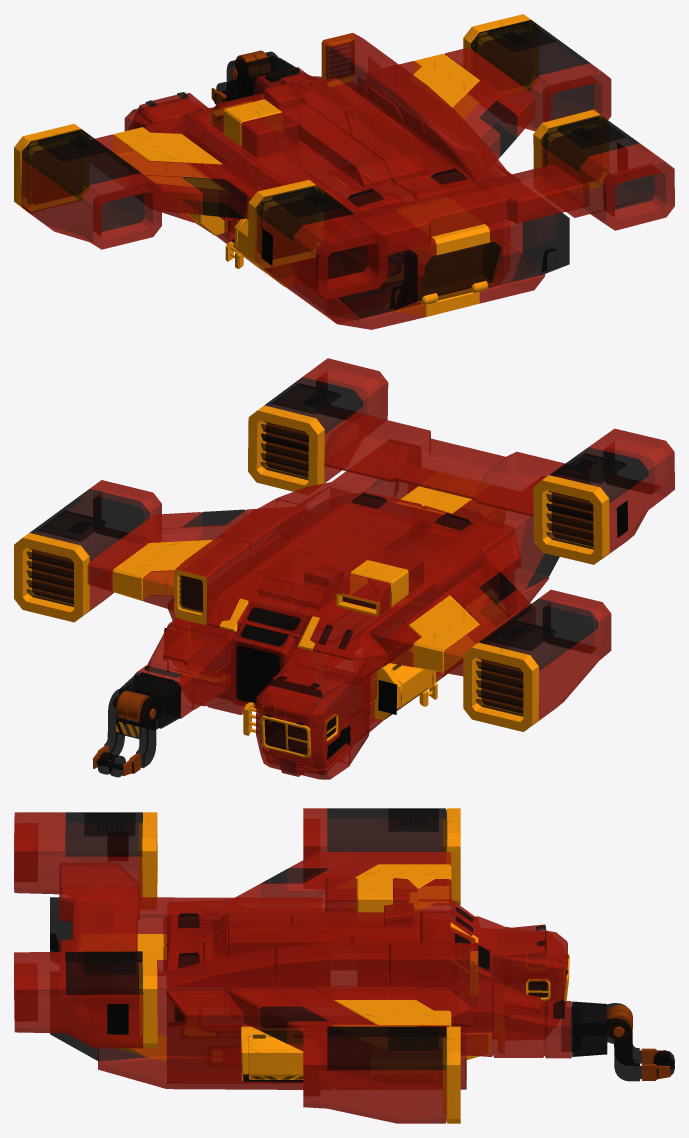
Rendered from Spaceship.fbx.
3 views of the same model, one above another, from view 1: azimuth 30°, elevation 25°; view 2: azimuth 150°, elevation 25°; view 3: azimuth 270°, elevation 25° (orthographic).
Parts seen in each view (by area): view 1: Maintenance; view 2: Maintenance; view 3: Maintenance.
Part boxes in pixels (left/top/right/bottom): Maintenance: left=14, top=14, right=674, bottom=329; Maintenance: left=14, top=358, right=674, bottom=779; Maintenance: left=14, top=808, right=674, bottom=1123.
Bounding box in the file's own units: 0.0133 × 0.00404 × 0.0147.
